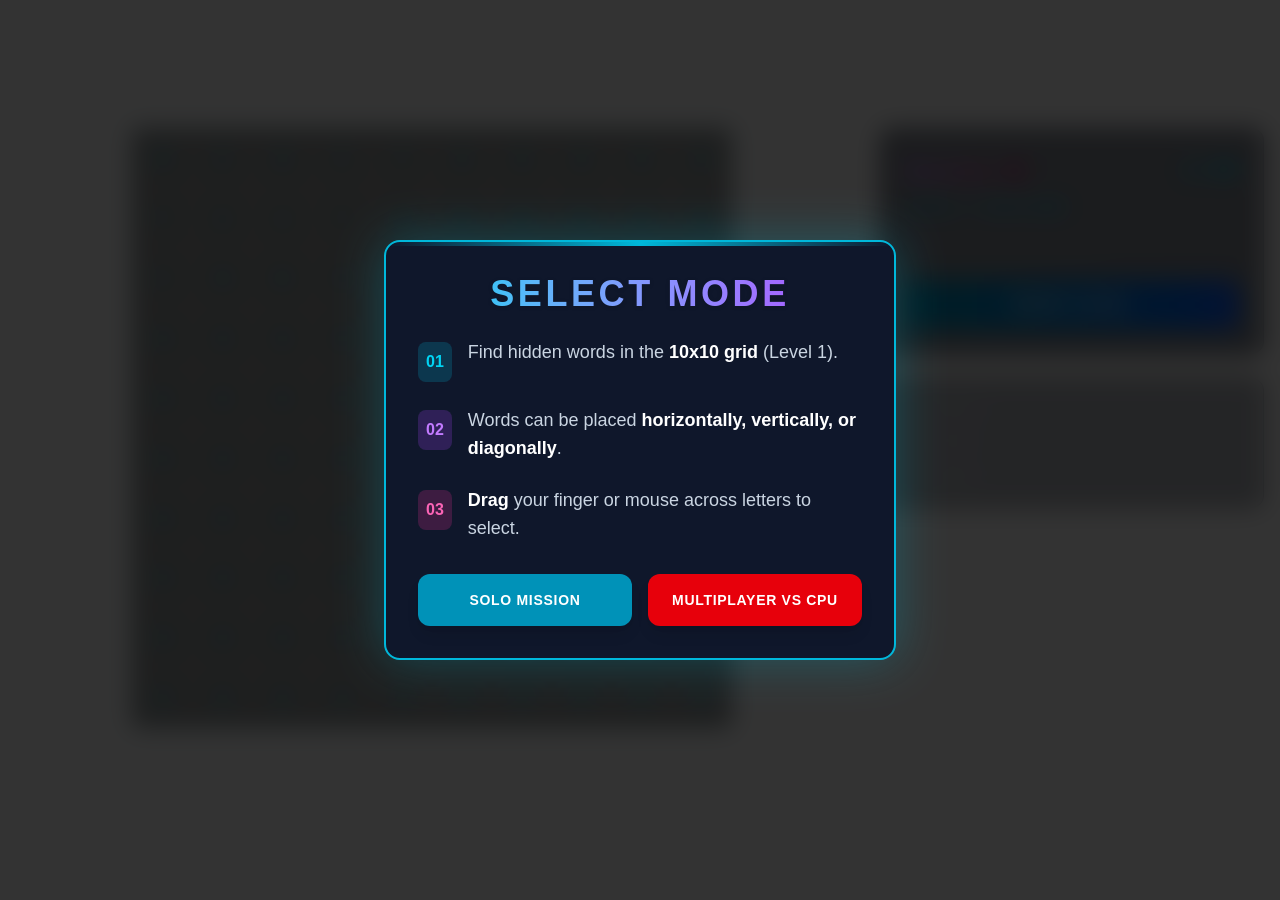
WordSearchGame Versus Mode › renders Versus mode correctly
# Match actual button text from WordSearchGame.tsx
Click the button "Multiplayer VS CPU". click: {"x": 755, "y": 600}
box: [648,574,862,626]
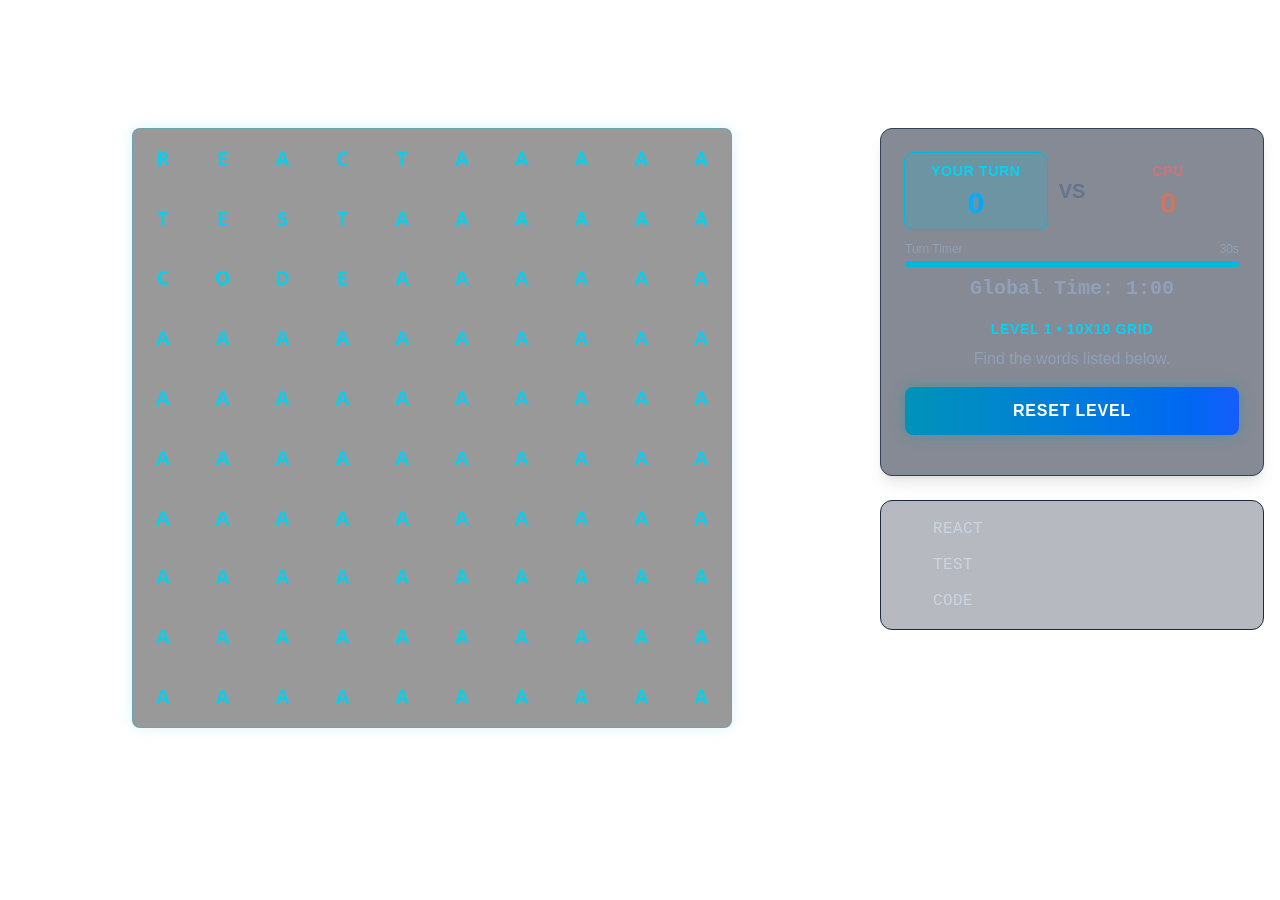
Expected: the text "CPU" is shown, [1152,163,1184,179]
Now the text "YOUR TURN" is shown, box [931,163,1021,179]
Now the text "Turn Timer" is shown, box [905,241,963,257]
